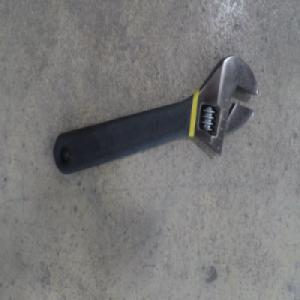AdjustableWrench: (53, 55, 258, 176)
